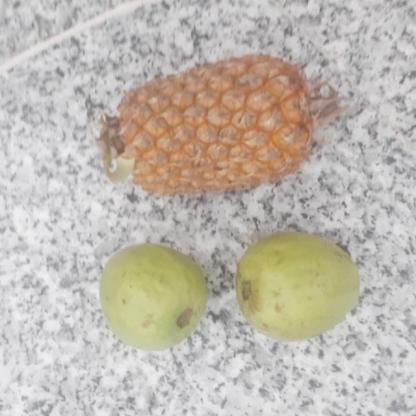guava: (230, 235, 360, 340), (95, 244, 210, 350)
pineapple: (88, 51, 346, 194)
